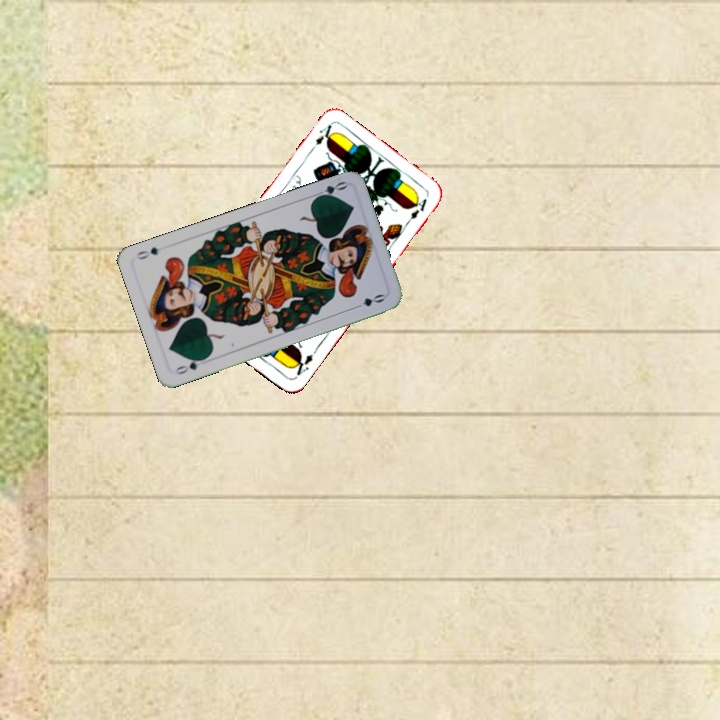EA: (305, 120, 336, 156), (288, 350, 316, 378)
GO: (309, 177, 349, 202), (171, 353, 209, 377)
